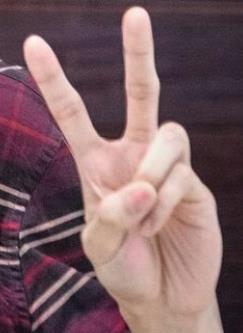front: (17, 1, 227, 299)
